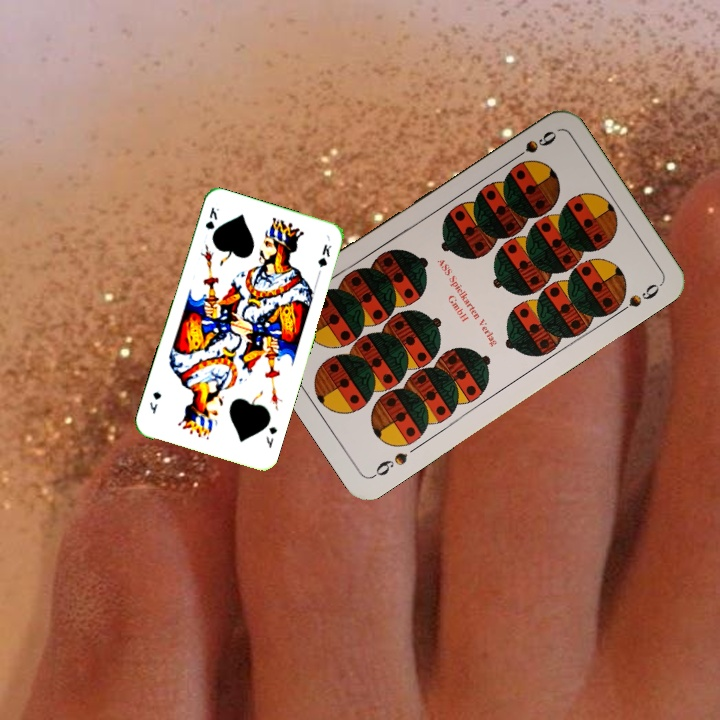GK: (201, 203, 222, 232), (262, 422, 280, 451)
S9: (506, 126, 559, 165), (368, 448, 410, 481)
